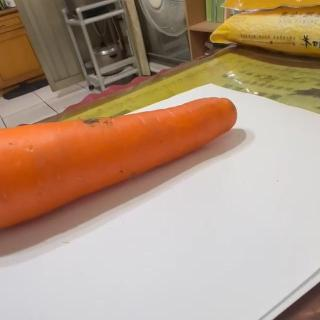carrot: (0, 95, 238, 232)
